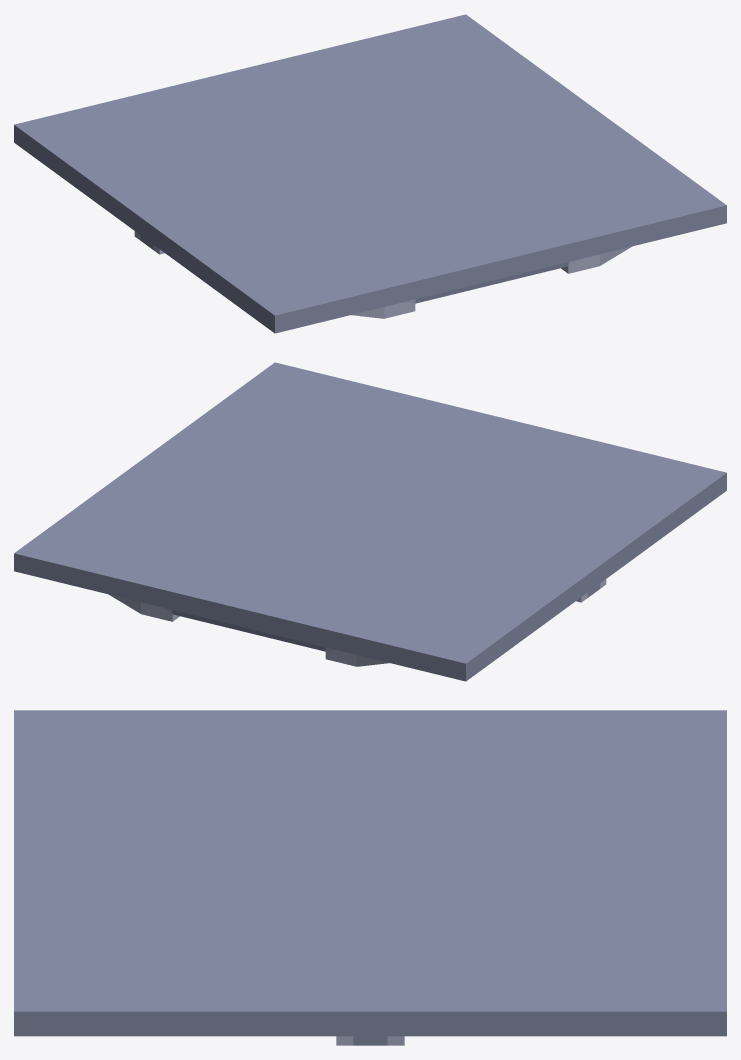
The model's file is Ceiling2.FBX.
3 renders of one model, top to bottom at view 1: azimuth 30°, elevation 25°; view 2: azimuth 150°, elevation 25°; view 3: azimuth 270°, elevation 25°, orthographic. The views are drawn at different scales.
Visible parts, largest first — view 1: Ceiling2; view 2: Ceiling2; view 3: Ceiling2.
Part boxes in pixels (x1,y1,x2,y2): Ceiling2: (14,14,726,333); Ceiling2: (14,362,726,681); Ceiling2: (14,710,726,1045).
Bounding box in the file's own units: 40.03 × 4.07 × 40.03.
